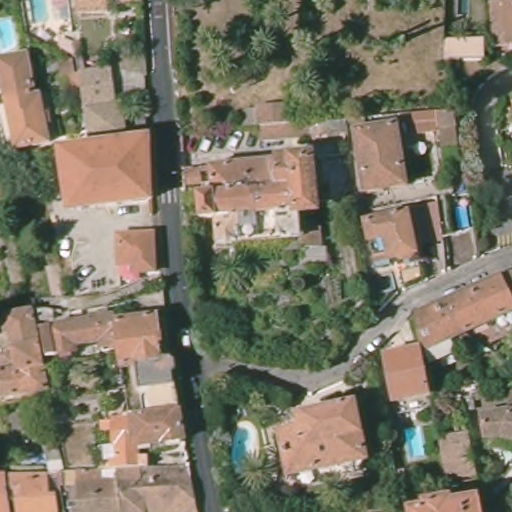pool: (228, 419, 260, 475), (450, 189, 475, 234), (402, 422, 428, 462), (1, 16, 20, 56), (27, 1, 51, 29)
